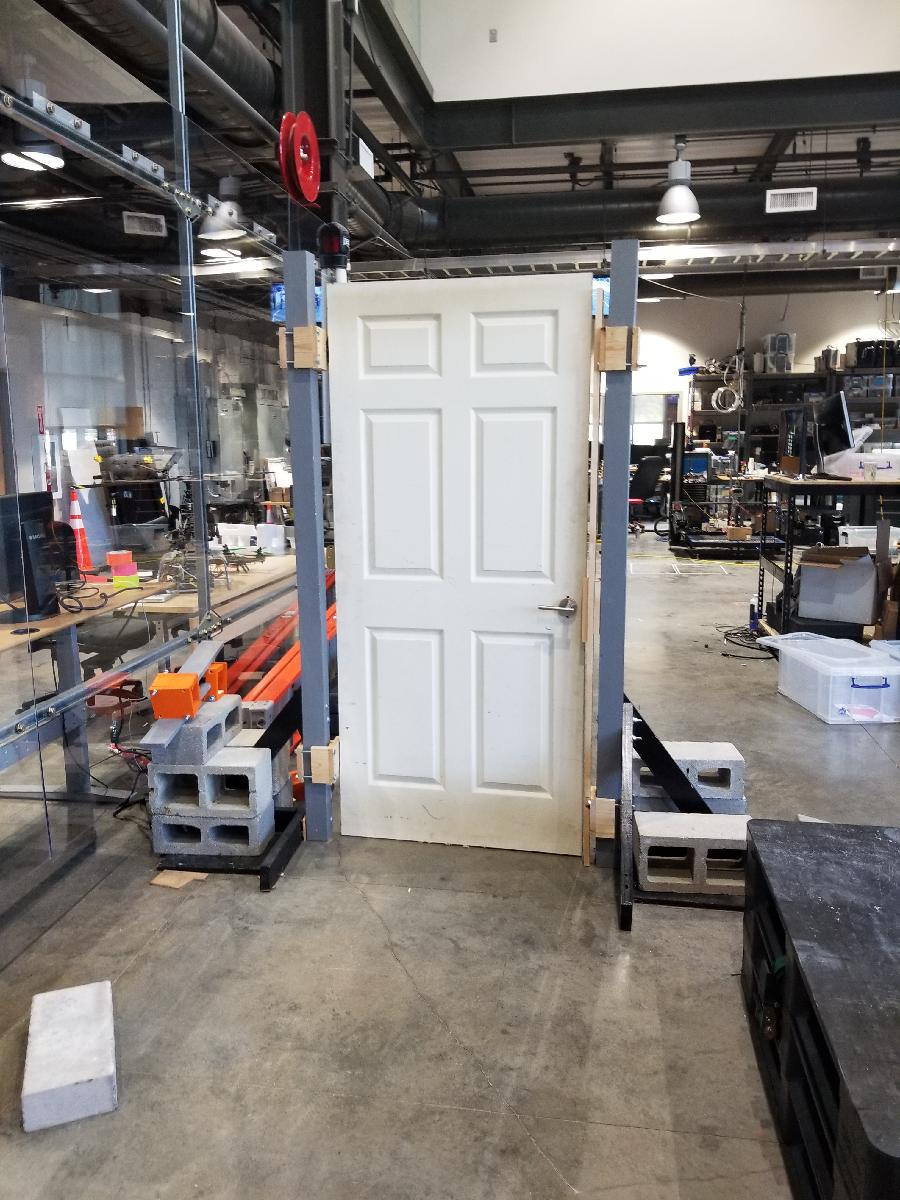door: (325, 271, 595, 862)
doorHandle: (536, 593, 584, 632)
